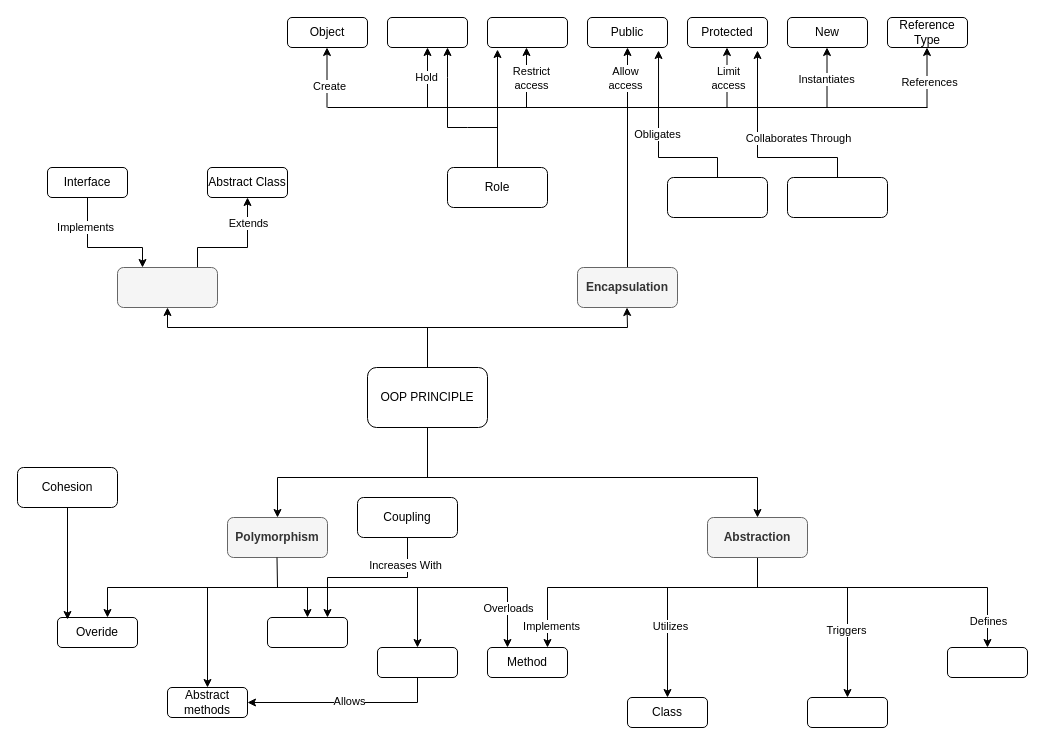
The diagram is 1045 pixels wide and 745 high, and some of its shapes have lost their labels. Here are the shapes that lost their labels. From the top down, the box of each, then its label:
(386, 16, 468, 48): Fields
(486, 16, 568, 48): Private
(666, 176, 768, 218): Responsibilities
(786, 176, 888, 218): Collaborations
(116, 266, 218, 308): Inheritance
(266, 616, 348, 648): Overload
(376, 646, 458, 678): Virtual
(946, 646, 1028, 678): Value Type
(806, 696, 888, 728): Method Call
